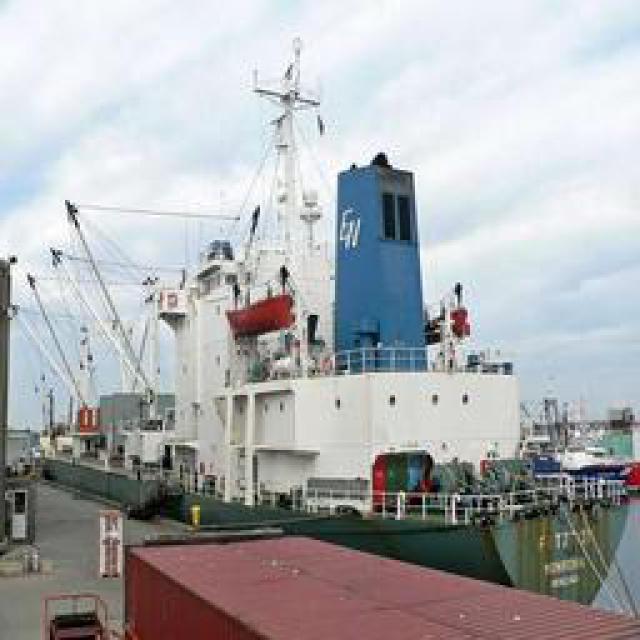Ship: (51, 32, 546, 530)
